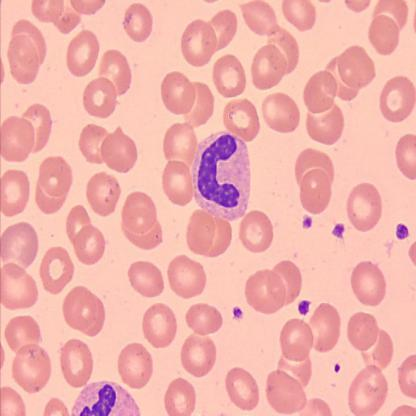Band Neutrophil: (190, 127, 253, 225)
